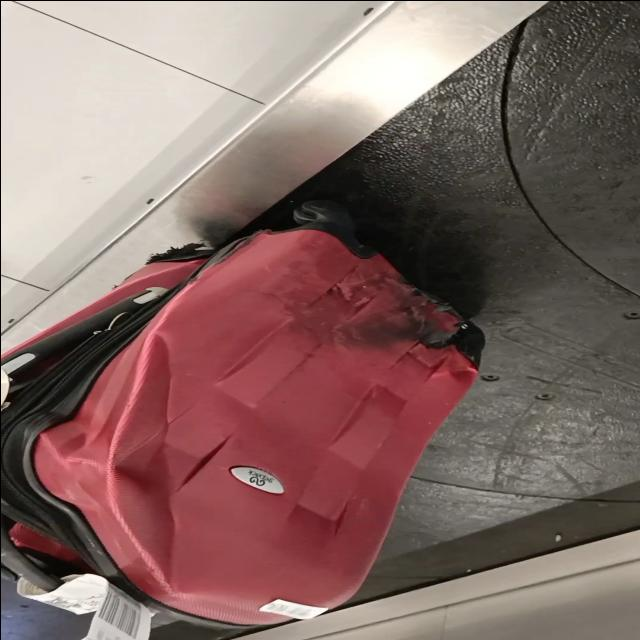Damage-bag: (0, 285, 182, 609), (302, 261, 484, 365)
